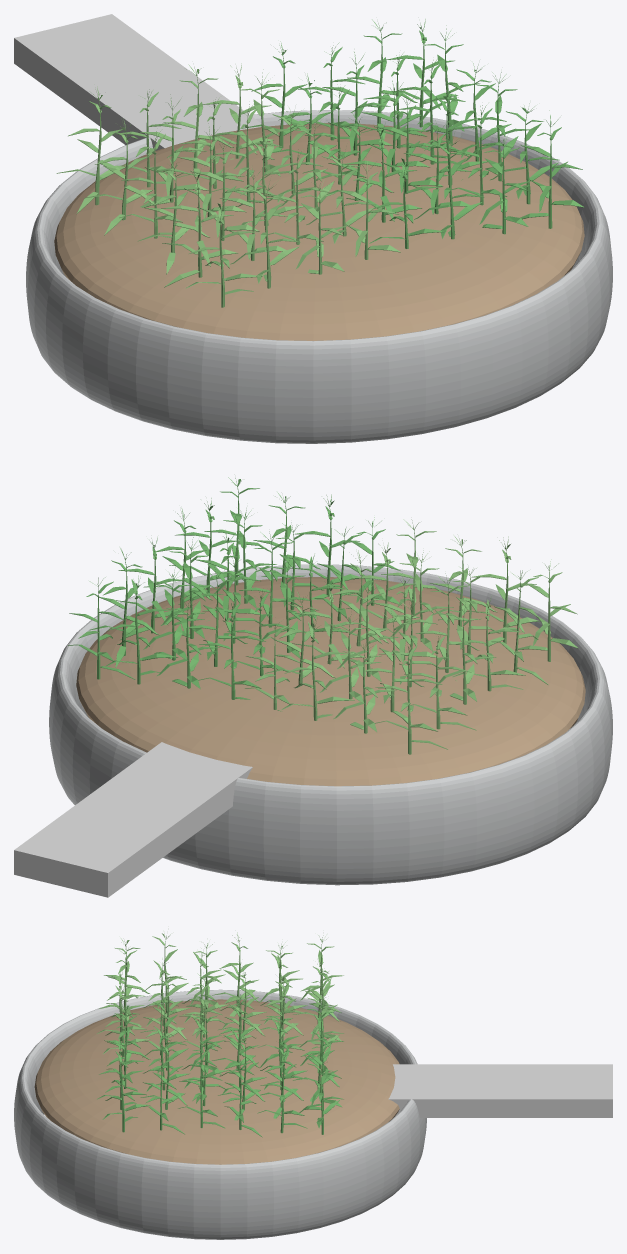
Rendered from ExquisiteJofo3.glb.
3 renders of one model, top to bottom at view 1: azimuth 30°, elevation 25°; view 2: azimuth 150°, elevation 25°; view 3: azimuth 270°, elevation 25°, orthographic. The views are drawn at different scales.
Visible parts, largest first — view 1: Mesh_Mesh_head_geo.001_lambert2SG.001; view 2: Mesh_Mesh_head_geo.001_lambert2SG.001; view 3: Mesh_Mesh_head_geo.001_lambert2SG.001.
Boxes of the visible parts, bbox=[...] form: Mesh_Mesh_head_geo.001_lambert2SG.001: bbox=[14, 14, 612, 443]; Mesh_Mesh_head_geo.001_lambert2SG.001: bbox=[14, 477, 612, 897]; Mesh_Mesh_head_geo.001_lambert2SG.001: bbox=[14, 932, 612, 1239].
Size of the model in its own units: 0.021 by 0.009 by 0.029.
